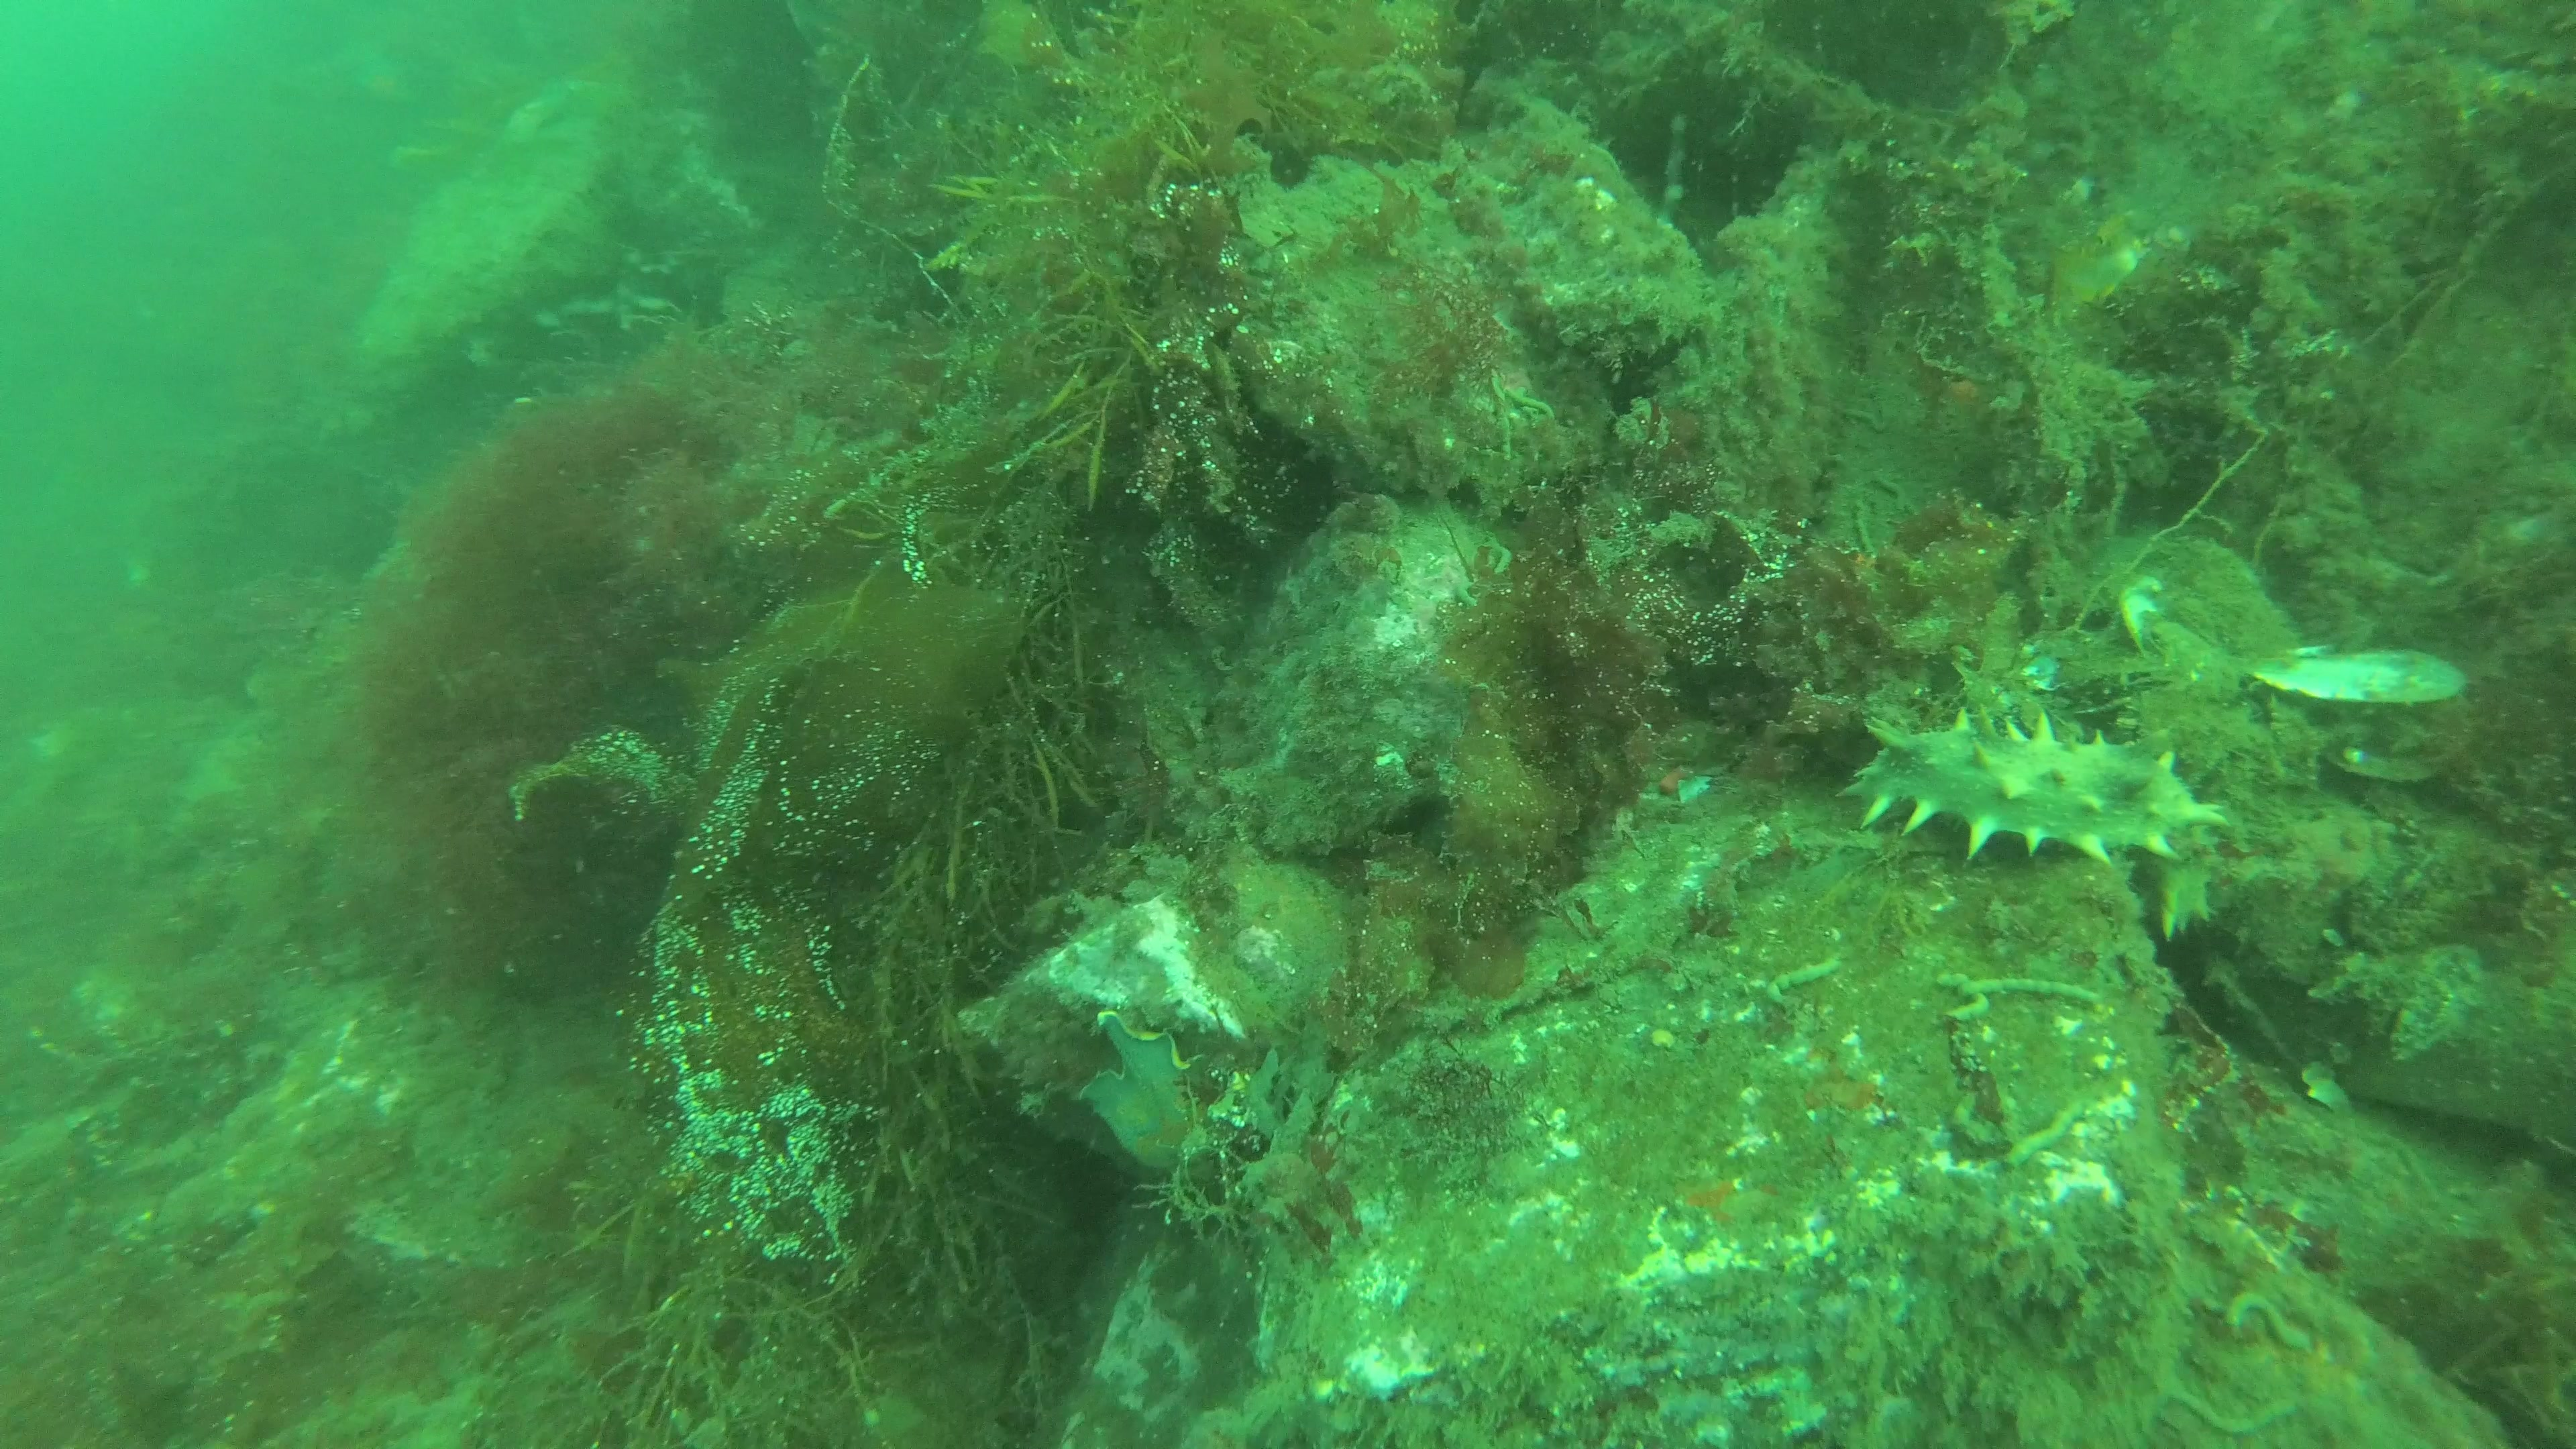holothurian: (1831, 706, 2235, 870)
starfish: (1076, 1008, 1244, 1203)
